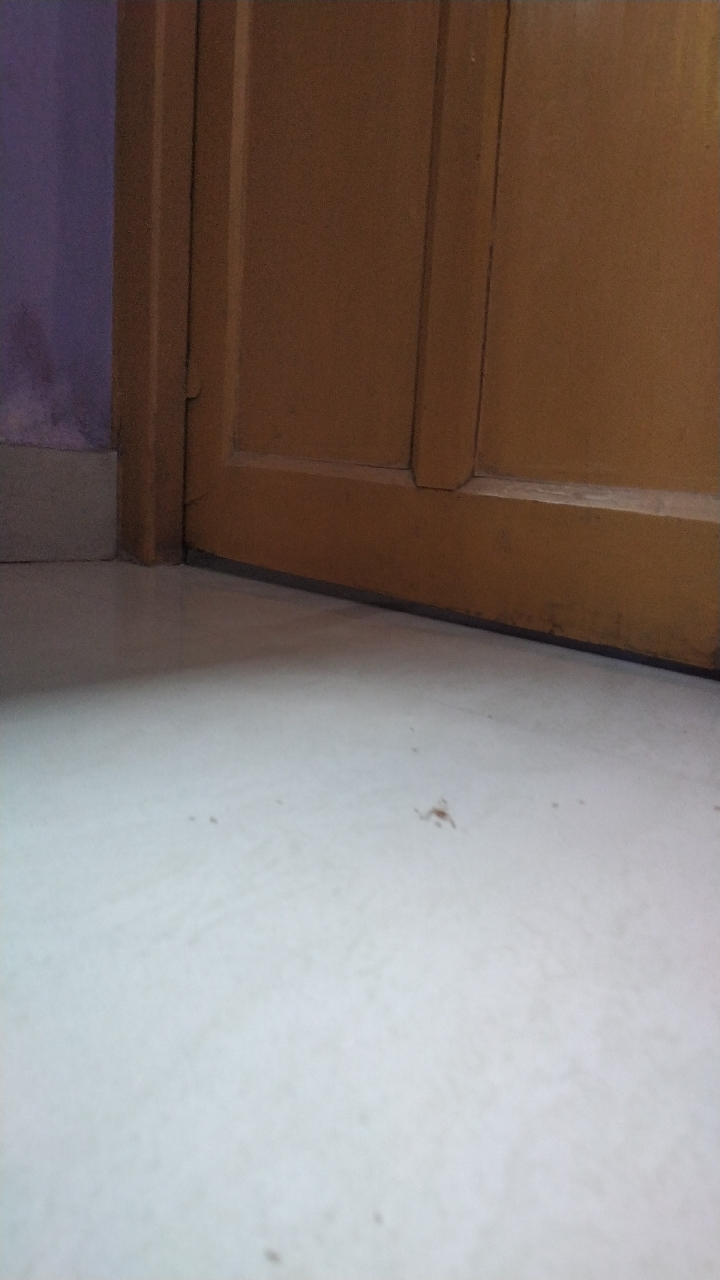Doors: (95, 44, 720, 680)
